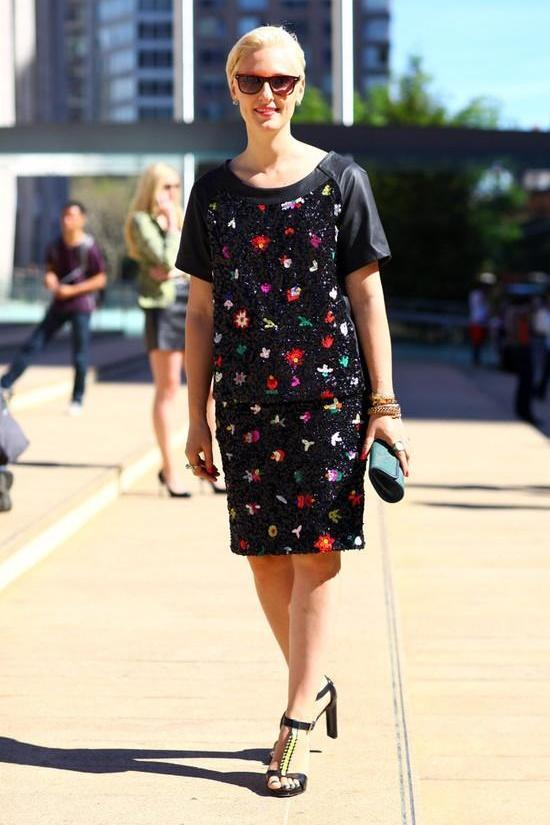dress: (177, 151, 392, 554)
